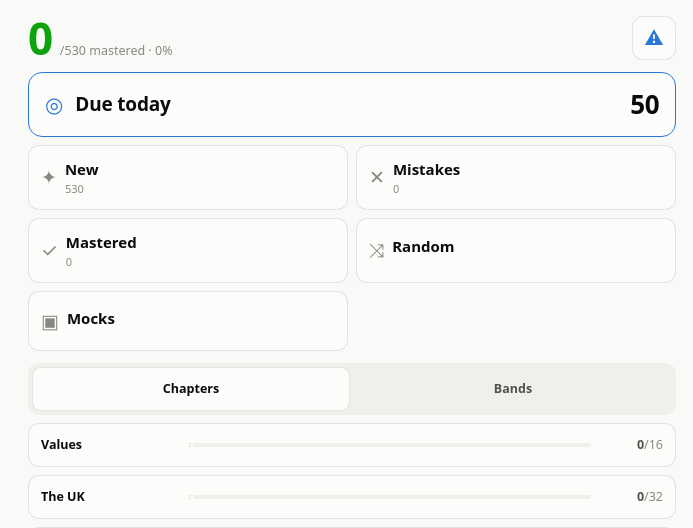
Test: the home screen › adds up: New + Mistakes + Mastered is the deck, before and after answering
The image size is (693, 528).
Check: the button "◎ Due today 50" is shown, box [28,72,676,137]
Click the button "Values 0/16": point(352, 445) [28,423,676,467]
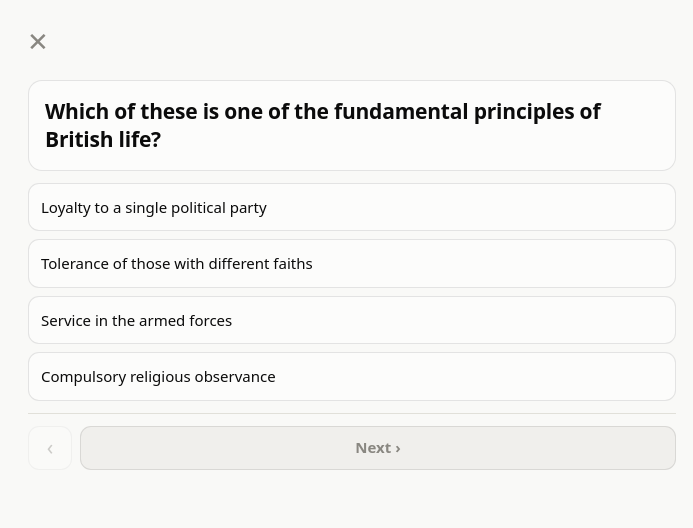
Check: the heading is shown, box [45,97,659,154]
Click the button "Tolerance of those with different faiths": point(177, 263) [28,239,676,288]
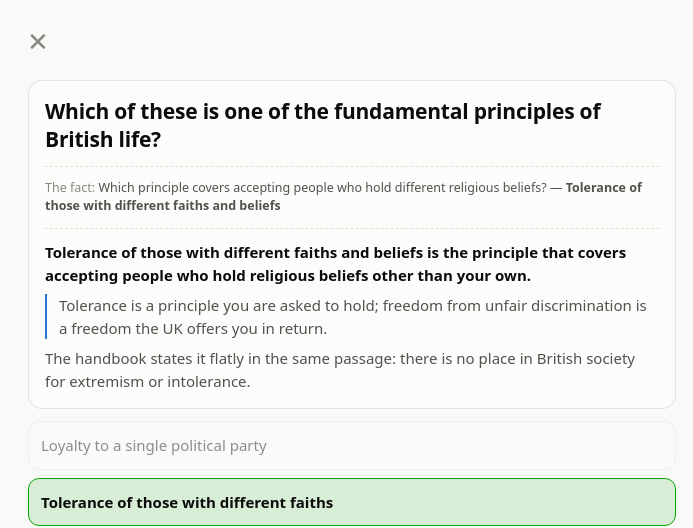
Click the button named "Close": point(38, 42) [16,20,60,64]
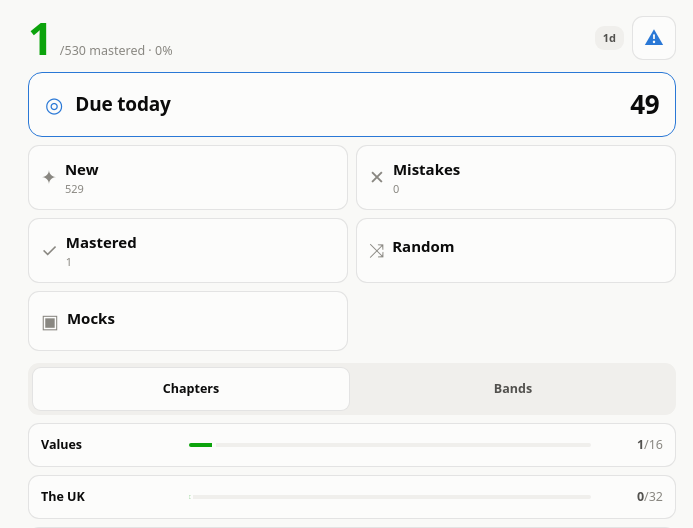
Check: the button "◎ Due today 49" is shown, box [28,72,676,137]
